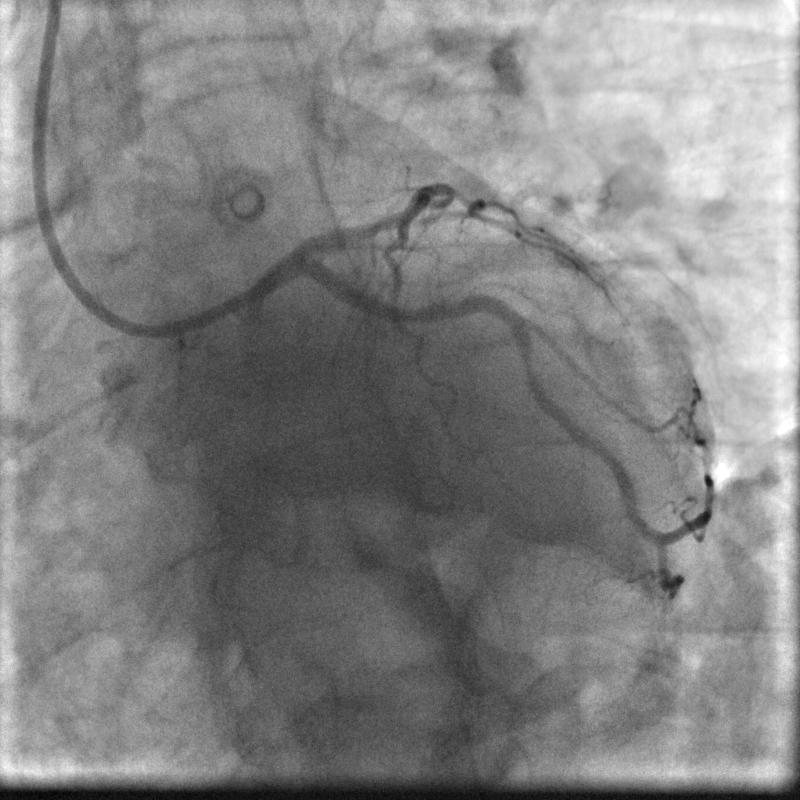Stenosis: (519, 349, 537, 380)
